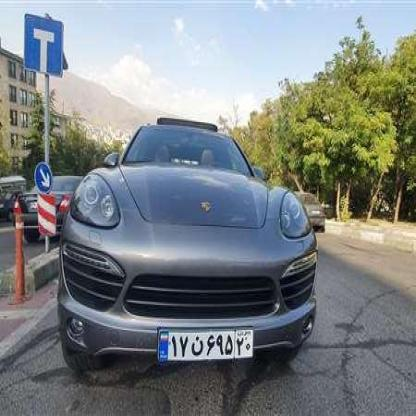Car: (59, 122, 319, 372), (12, 168, 85, 237), (292, 191, 326, 229)
